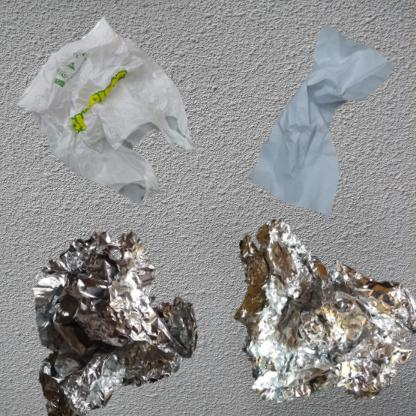aluminio: (10, 213, 223, 416), (213, 213, 416, 416)
bolsa: (10, 10, 202, 213)
papel: (213, 10, 416, 252)
